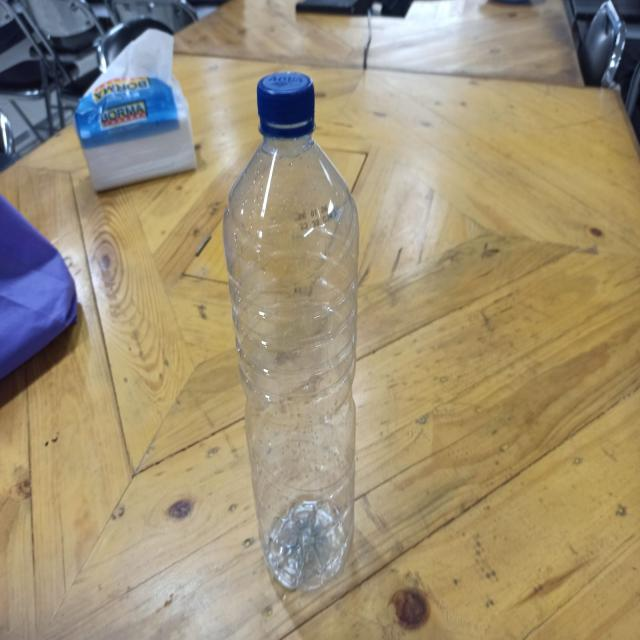BotolPlastik: (222, 69, 361, 592)
